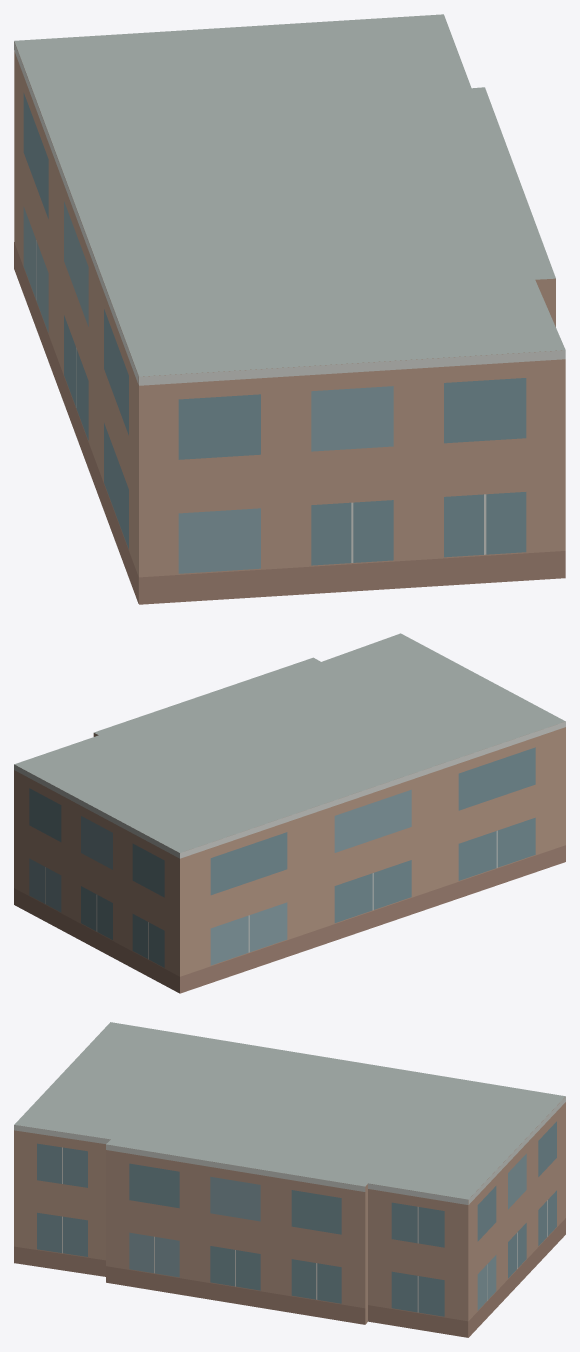
Rendered from survey-upis-33041178.glb.
The picture shows the model from 3 angles, top to bottom: view 1: azimuth 30°, elevation 25°; view 2: azimuth 150°, elevation 25°; view 3: azimuth 270°, elevation 25°; orthographic projection. The views are drawn at different scales.
Visible parts, largest first — view 1: survey-upis-33041178.tmp; view 2: survey-upis-33041178.tmp; view 3: survey-upis-33041178.tmp.
Part boxes in pixels (bbox=[...]): survey-upis-33041178.tmp: bbox=[14, 14, 565, 604]; survey-upis-33041178.tmp: bbox=[14, 633, 565, 993]; survey-upis-33041178.tmp: bbox=[14, 1022, 565, 1337].
Size of the model in its own units: 16.82 by 6.1 by 22.08.
